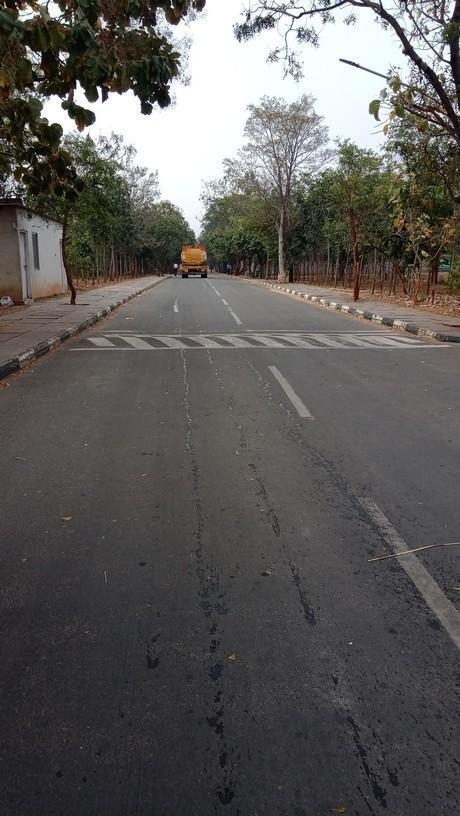speedbreaker: (88, 326, 425, 355)
